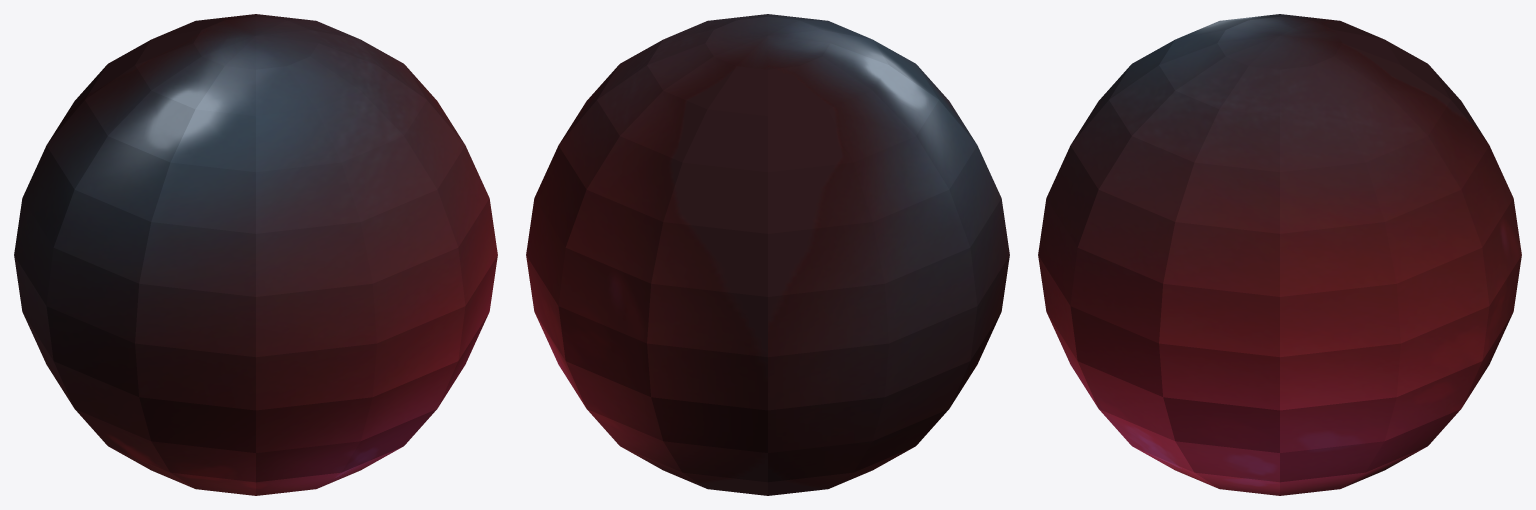
File: marbl.dae
The picture shows the model from 3 angles, left to right: view 1: azimuth 30°, elevation 25°; view 2: azimuth 150°, elevation 25°; view 3: azimuth 270°, elevation 25°; orthographic projection.
Visible parts, largest first — view 1: Sphere; view 2: Sphere; view 3: Sphere.
Part boxes in pixels (box(x1,y1,x2,y2)): Sphere: box(14, 14, 497, 495); Sphere: box(526, 14, 1009, 495); Sphere: box(1038, 14, 1521, 495).
Bounding box in the file's own units: 2 × 2 × 2.
Materials: 1 (1 with a texture image).
